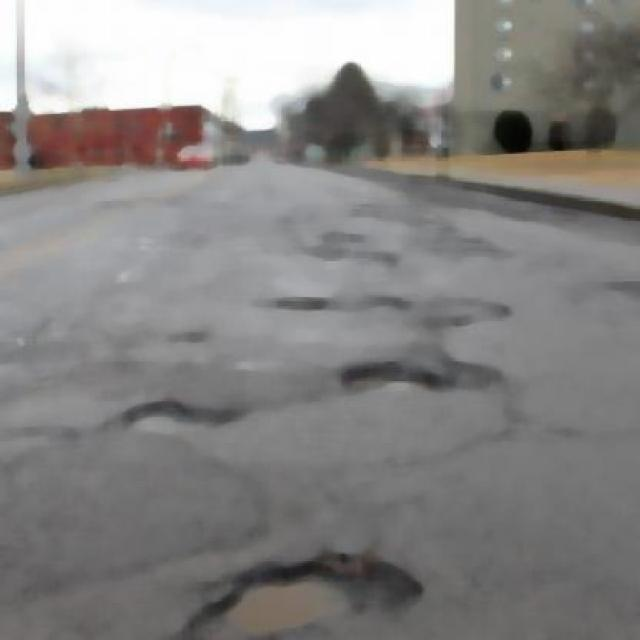Pothole: (187, 550, 471, 639), (323, 342, 528, 420), (125, 382, 248, 448)
